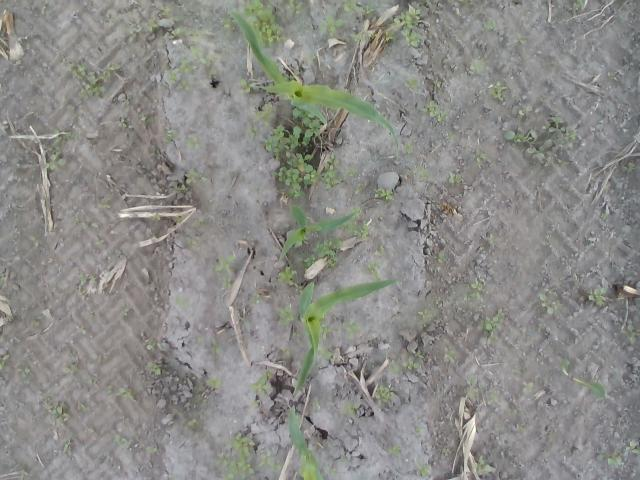Maize: (226, 9, 401, 149), (293, 279, 399, 388), (278, 204, 360, 258), (286, 405, 326, 480)
Weeds: (260, 125, 320, 200), (241, 0, 286, 50), (216, 432, 258, 480), (66, 61, 121, 97), (178, 46, 224, 80), (290, 102, 322, 148), (43, 128, 75, 172), (392, 4, 422, 49), (542, 110, 576, 144), (461, 271, 488, 312), (480, 306, 506, 346), (536, 285, 566, 319), (310, 237, 342, 268), (574, 376, 609, 401), (321, 151, 342, 192), (212, 253, 235, 290), (175, 168, 209, 192), (341, 0, 376, 23), (317, 14, 347, 40), (44, 394, 70, 424), (255, 446, 285, 472), (502, 126, 538, 146), (462, 142, 489, 168), (172, 26, 208, 44), (250, 368, 272, 396), (486, 78, 510, 103), (424, 98, 448, 122), (275, 264, 299, 288), (471, 454, 497, 476), (254, 102, 276, 128), (341, 222, 369, 242), (618, 320, 640, 345), (374, 380, 395, 406), (127, 15, 159, 32), (596, 449, 624, 468), (583, 286, 609, 306), (274, 302, 294, 328), (524, 146, 554, 162), (338, 398, 364, 416), (158, 0, 180, 21), (412, 456, 432, 478), (318, 316, 338, 336), (402, 351, 424, 369), (466, 368, 478, 400), (342, 319, 362, 338), (367, 257, 383, 280), (414, 163, 433, 182), (15, 366, 34, 385), (418, 304, 438, 322), (284, 0, 305, 17), (372, 186, 394, 202), (468, 56, 488, 73), (62, 361, 82, 378), (618, 158, 638, 175), (162, 126, 180, 144), (429, 248, 449, 264), (117, 386, 137, 402), (222, 16, 240, 33), (144, 359, 162, 376), (174, 293, 192, 310), (479, 17, 498, 33), (351, 30, 376, 42), (386, 443, 401, 463), (110, 433, 130, 448), (78, 270, 99, 284), (206, 374, 223, 391), (240, 79, 258, 95), (512, 106, 530, 122), (624, 438, 640, 456), (208, 336, 224, 354), (446, 0, 482, 8), (183, 135, 202, 150), (176, 78, 193, 94), (446, 172, 466, 185), (279, 340, 292, 360), (557, 356, 569, 377), (142, 337, 160, 351), (76, 399, 92, 414), (62, 438, 74, 458), (431, 78, 444, 96), (301, 253, 316, 268), (388, 360, 402, 376), (344, 166, 362, 178), (318, 347, 336, 359), (118, 302, 130, 320), (248, 292, 264, 305), (511, 33, 527, 46), (114, 114, 128, 128), (402, 142, 418, 154), (0, 352, 11, 369), (405, 78, 419, 91), (165, 67, 178, 81), (520, 381, 535, 393), (510, 366, 528, 376), (502, 406, 520, 416), (186, 419, 202, 430), (190, 216, 206, 227), (305, 49, 317, 62), (512, 422, 526, 433), (29, 230, 42, 241), (386, 30, 396, 44), (186, 239, 200, 249), (106, 383, 114, 400), (489, 386, 498, 401), (82, 376, 97, 385), (195, 335, 207, 346), (247, 126, 260, 136), (488, 231, 498, 244), (247, 398, 260, 408), (425, 32, 433, 48), (447, 130, 457, 142), (196, 391, 208, 401), (558, 158, 570, 168), (328, 466, 338, 478), (543, 448, 550, 464), (447, 351, 457, 362), (150, 214, 160, 225), (374, 246, 386, 255), (0, 33, 7, 48), (290, 330, 303, 338), (312, 398, 322, 408), (574, 0, 584, 10), (600, 210, 608, 222), (351, 213, 363, 221), (69, 216, 81, 224), (144, 447, 160, 453), (174, 214, 183, 224), (0, 271, 5, 289), (414, 426, 428, 432), (441, 448, 450, 457), (356, 183, 364, 193), (607, 72, 617, 80)
